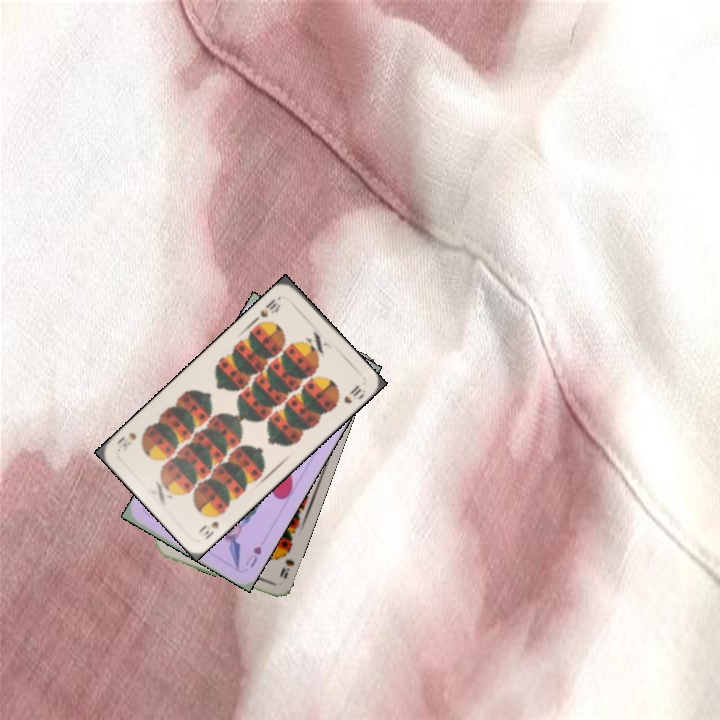HU: (241, 542, 264, 570)
S10: (194, 508, 227, 543), (256, 292, 284, 320)
S9: (276, 543, 297, 581)
